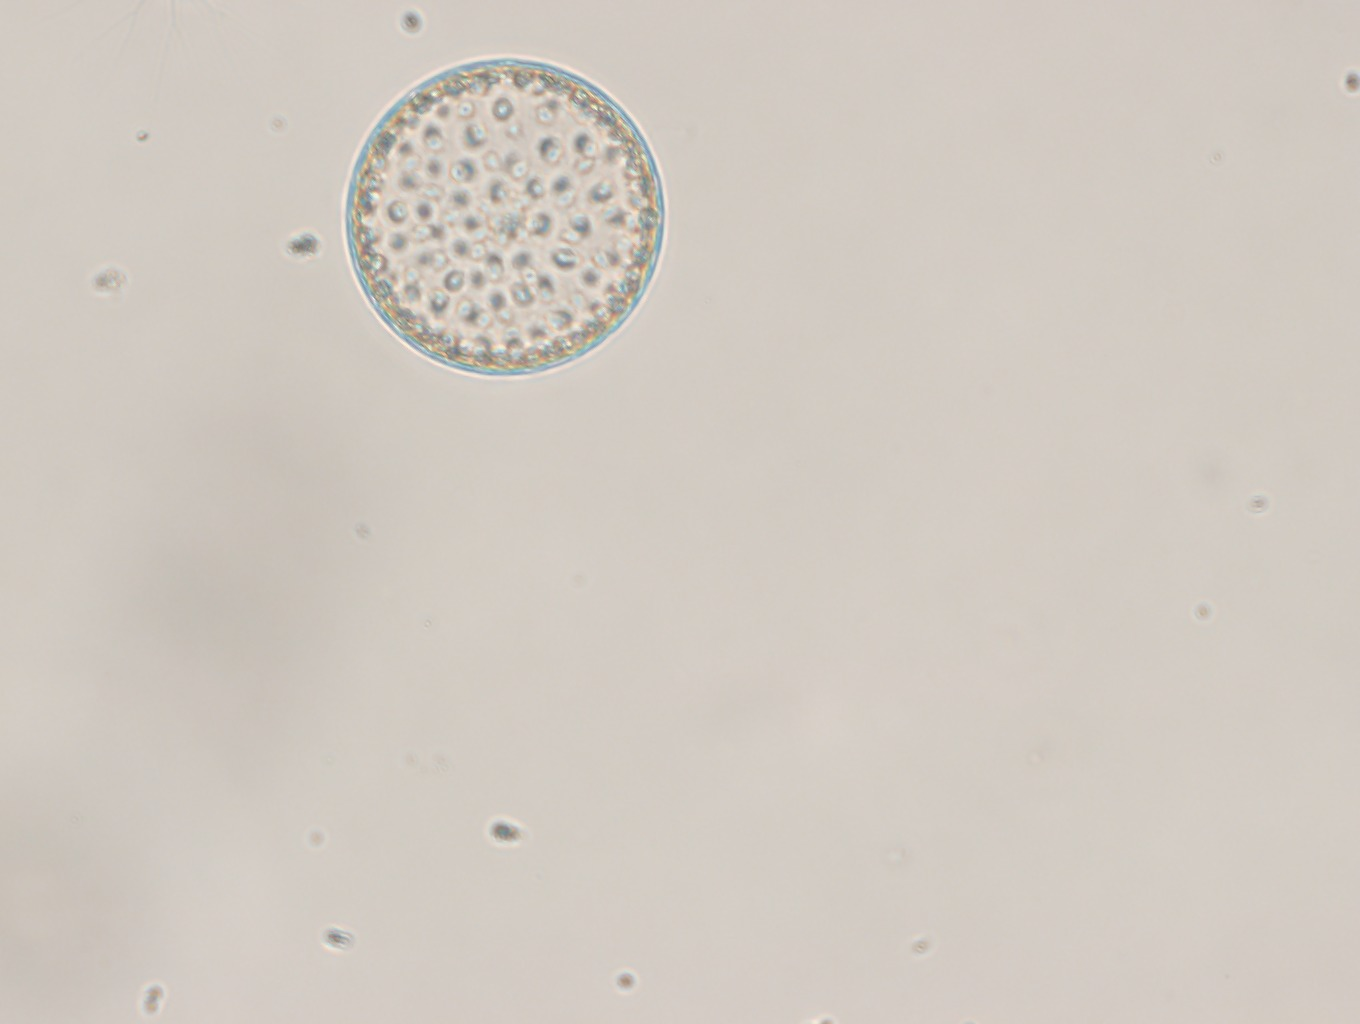coscinodiscus: (340, 49, 668, 381)
